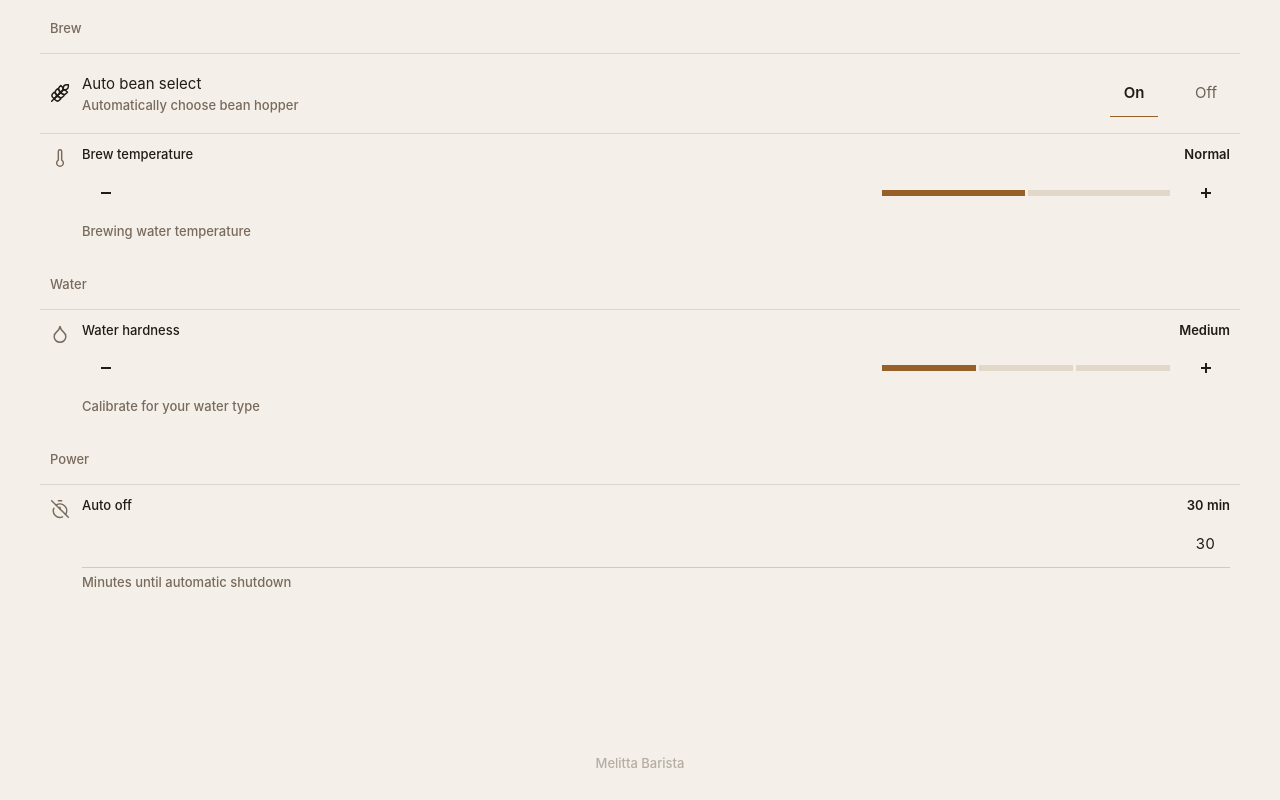
Test case: SettingsSection visual contract › gives Reset a bare word with NO rule and keeps every control's 48px reach
Step 1. Click the radio button labelled "Off" → click(1206, 93), box [1182, 69, 1230, 117]
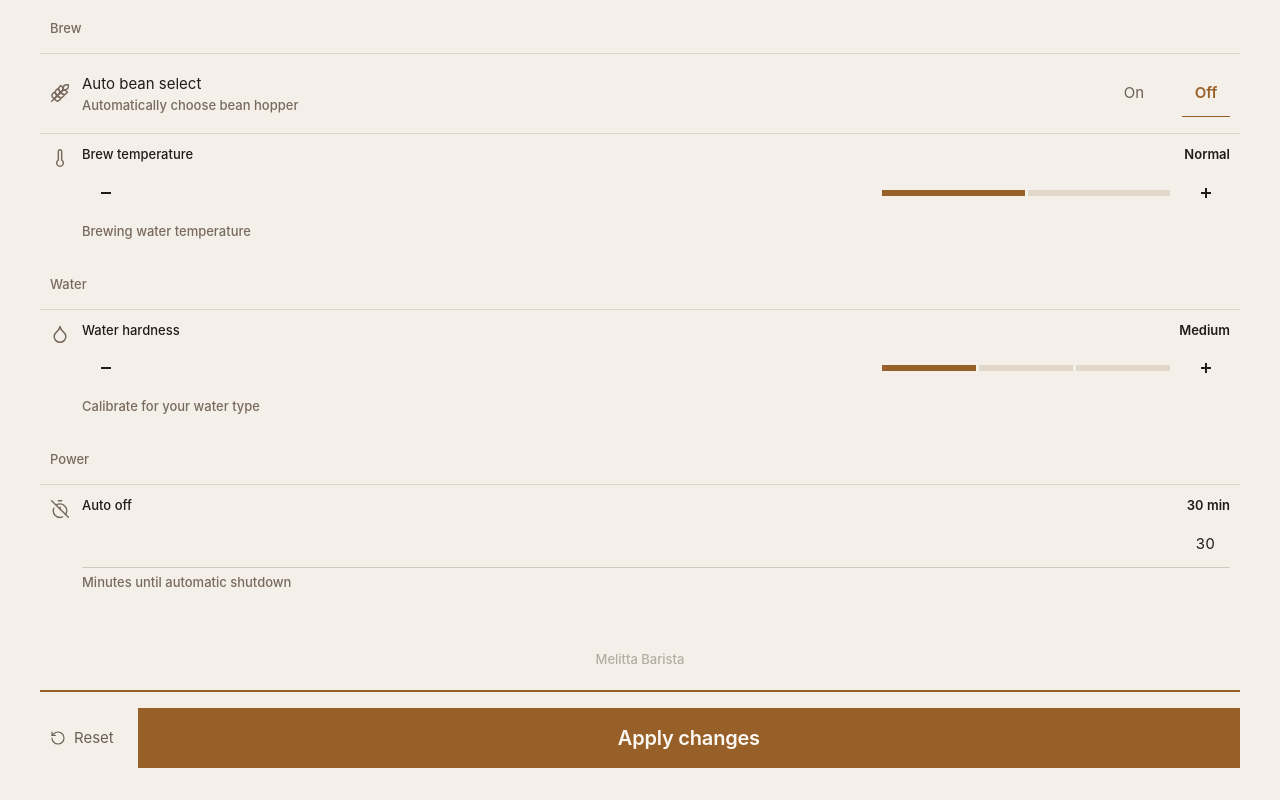
Check: the element "Reset Apply changes" is shown, box [40, 690, 1240, 799]
